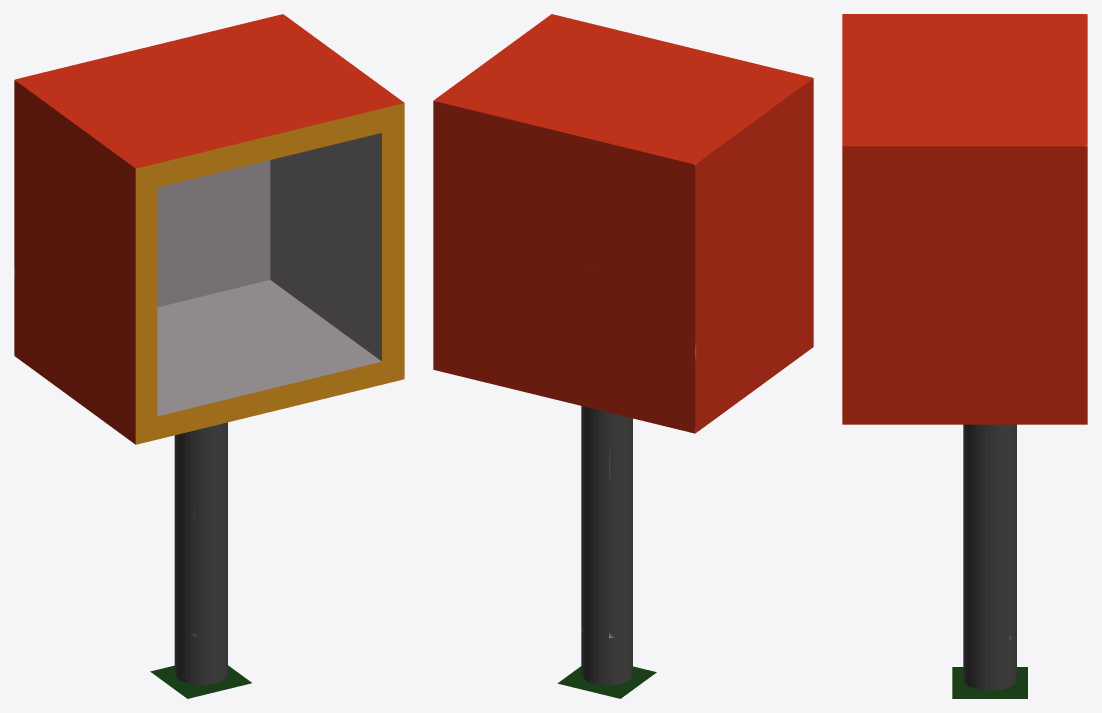
File: postilaatikko.fbx
3 views of the same model, side by side, from view 1: azimuth 30°, elevation 25°; view 2: azimuth 150°, elevation 25°; view 3: azimuth 270°, elevation 25° (orthographic). The views are drawn at different scales.
Visible parts, largest first — view 1: Postilaatikko, Ruoho; view 2: Postilaatikko, Ruoho; view 3: Postilaatikko, Ruoho.
Boxes of the visible parts, <box> form: Postilaatikko: <box>14,14,404,684</box>; Ruoho: <box>150,665,251,698</box>; Postilaatikko: <box>433,14,813,685</box>; Ruoho: <box>557,666,656,698</box>; Postilaatikko: <box>842,14,1087,690</box>; Ruoho: <box>952,667,1027,698</box>.
Bounding box in the file's own units: 383 × 812 × 300.
